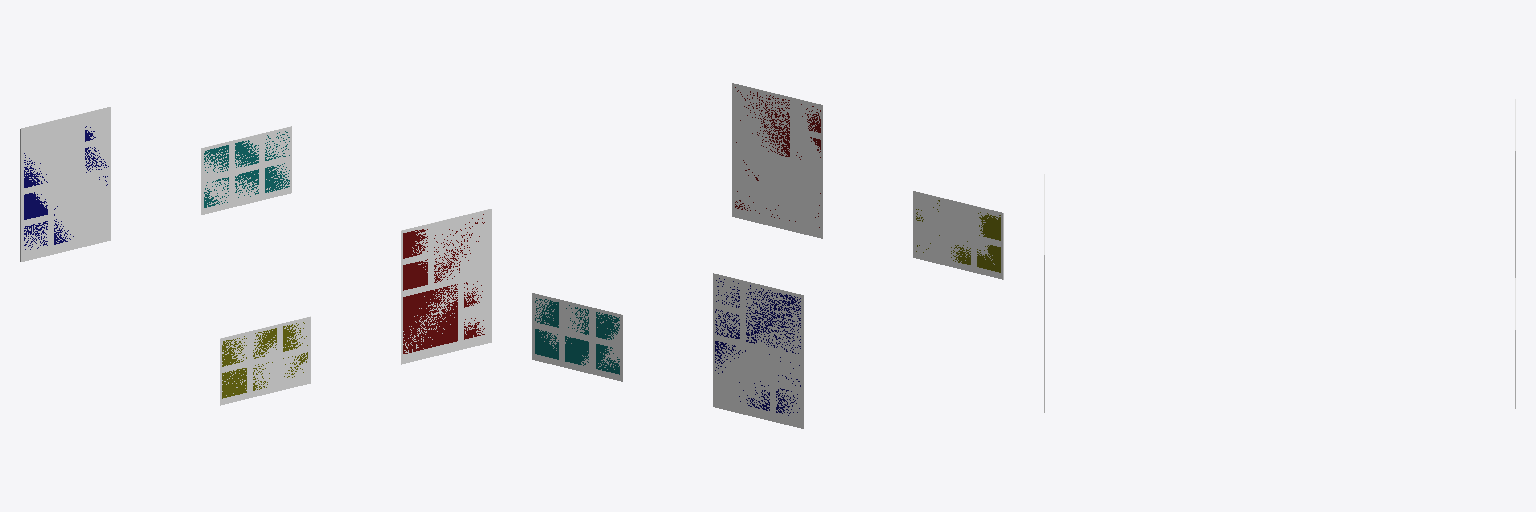
The robot description file, URDF, robot "calibration_all":
<?xml version="1.0" encoding="utf-8"?>
  
<robot name="calibration_all">

<!-- specific placement of individual calibration grids -->
    <link name="calibration_all_base_link">
        <visual>  
        <geometry>
          <box size="1e-3 1e-3 1e-3" />
        </geometry>
        <material name="TransparentWhite">
        <color rgba="1 1 1 0.2"/>
        </material>
    </visual>
    </link>

    <!-- note: A3 printing was not extremelly precise on the margins. 10mm on the left was 8mm. sizes are correct -->
    <!-- note: A4 printing was not extremelly precise on the margins. 10mm on the left was 7mm. sizes are correct -->

    <joint name="all-1a" type="fixed">
        <origin rpy="0 1.57079 1.57079" xyz="0.445 -0.5675 0.61"/>
        <parent link="calibration_all_base_link"/>
        <child link="calibration_1a_base_link"/>
    </joint>

    <joint name="all-1b" type="fixed">
        <origin rpy="0 1.57079 1.57079" xyz="-0.148 -0.5675 0.41"/>
        <parent link="calibration_all_base_link"/>
        <child link="calibration_1b_base_link"/>
    </joint>

    <joint name="all-2b" type="fixed">
        <origin rpy="0 1.57079 -1.57079" xyz="0.148 0.5675 0.41"/>
        <parent link="calibration_all_base_link"/>
        <child link="calibration_2b_base_link"/>
    </joint>

    <joint name="all-2a" type="fixed">
        <origin rpy="0 1.57079 -1.57079" xyz="-0.445 0.5675 0.61"/>
        <parent link="calibration_all_base_link"/>
        <child link="calibration_2a_base_link"/>
    </joint>

<!-- 1a -->
  <!-- upper left corner of grid  -->
  <link name="calibration_1a_base_link">
    <visual>  
     <origin xyz ="0.21 0.1485 0" rpy ="0 0 0"/>
     <geometry>
       <box size="0.42 0.297 1e-3" />
     </geometry>
     <material name="TransparentWhite">
       <color rgba="1 1 1 0.2"/>
     </material>
   </visual>
  </link>

  <!-- aruco 901 -->
  <link name="aruco_901">
    <visual>  
     <geometry>
       <box size="0.18 0.18 0.001" />
     </geometry>
     <material name="DarkRed">
       <color rgba="0.5 0.1 0.1 0.8"/>
     </material>
   </visual>
  </link>

  <!-- aruco 902   -->
  <link name="aruco_902">
    <visual>  
     <geometry>
       <box size="0.08 0.08 0.001" />
     </geometry>
     <material name="DarkRed">
       <color rgba="0.5 0.1 0.1 0.8"/>
     </material>
   </visual>
  </link>

  <!-- aruco 903   -->
  <link name="aruco_903">
    <visual>  
     <geometry>
       <box size="0.08 0.08 0.001" />
     </geometry>
     <material name="DarkRed">
       <color rgba="0.5 0.1 0.1 0.8"/>
     </material>
   </visual>
  </link>

  <!-- aruco 904   -->
  <link name="aruco_904">
    <visual>  
     <geometry>
       <box size="0.08 0.08 0.001" />
     </geometry>
     <material name="DarkRed">
       <color rgba="0.5 0.1 0.1 0.8"/>
     </material>
   </visual>
  </link>

  <!-- aruco 905   -->
  <link name="aruco_905">
    <visual>  
     <geometry>
       <box size="0.08 0.08 0.001" />
     </geometry>
     <material name="DarkRed">
       <color rgba="0.5 0.1 0.1 0.8"/>
     </material>
   </visual>
  </link>

  <!-- aruco 906   -->
  <link name="aruco_906">
    <visual>  
     <geometry>
       <box size="0.18 0.18 0.001" />
     </geometry>
     <material name="DarkRed">
       <color rgba="0.5 0.1 0.1 0.8"/>
     </material>
   </visual>
  </link>

  <!-- position aruco markers -->
  <joint name="base_link-aruco_901" type="fixed">
    <origin rpy="0 0 0" xyz="0.1 0.1 0"/>
    <parent link="calibration_1a_base_link"/>
    <child link="aruco_901"/>
  </joint>

  <joint name="base_link-aruco_902" type="fixed">
    <origin rpy="0 0 0" xyz="0.05 0.25 0"/>
    <parent link="calibration_1a_base_link"/>
    <child link="aruco_902"/>
  </joint>

  <joint name="base_link-aruco_903" type="fixed">
    <origin rpy="0 0 0" xyz="0.15 0.25 0"/>
    <parent link="calibration_1a_base_link"/>
    <child link="aruco_903"/>
  </joint>

  <joint name="base_link-aruco_904" type="fixed">
    <origin rpy="0 0 0" xyz="0.25 0.05 0"/>
    <parent link="calibration_1a_base_link"/>
    <child link="aruco_904"/>
  </joint>

  <joint name="base_link-aruco_905" type="fixed">
    <origin rpy="0 0 0" xyz="0.35 0.05 0"/>
    <parent link="calibration_1a_base_link"/>
    <child link="aruco_905"/>
  </joint>

  <joint name="base_link-aruco_906" type="fixed">
    <origin rpy="0 0 0" xyz="0.3 0.2 0"/>
    <parent link="calibration_1a_base_link"/>
    <child link="aruco_906"/>
  </joint>
<!-- 1b -->
  <!-- upper left corner of grid  -->
  <link name="calibration_1b_base_link">
    <visual>  
     <origin xyz ="0.105 0.1485 0" rpy ="0 0 0"/>
     <geometry>
       <box size="0.21 0.297 1e-3" />
     </geometry>
     <material name="TransparentWhite">
       <color rgba="1 1 1 0.2"/>
     </material>
   </visual>
  </link>

  <!-- aruco 907 -->
  <link name="aruco_907">
    <visual>  
     <geometry>
       <box size="0.08 0.08 0.001" />
     </geometry>
     <material name="Yellow">
       <color rgba="0.5 0.5 0.1 0.8"/>
     </material>
   </visual>
  </link>

  <!-- aruco 908   -->
  <link name="aruco_908">
    <visual>  
     <geometry>
       <box size="0.08 0.08 0.001" />
     </geometry>
     <material name="Yellow">
       <color rgba="0.5 0.5 0.1 0.8"/>
     </material>
   </visual>
  </link>

  <!-- aruco 909   -->
  <link name="aruco_909">
    <visual>  
     <geometry>
       <box size="0.08 0.08 0.001" />
     </geometry>
     <material name="Yellow">
       <color rgba="0.5 0.5 0.1 0.8"/>
     </material>
   </visual>
  </link>

  <!-- aruco 910   -->
  <link name="aruco_910">
    <visual>  
     <geometry>
       <box size="0.08 0.08 0.001" />
     </geometry>
     <material name="Yellow">
       <color rgba="0.5 0.5 0.1 0.8"/>
     </material>
   </visual>
  </link>

  <!-- aruco 911   -->
  <link name="aruco_911">
    <visual>  
     <geometry>
       <box size="0.08 0.08 0.001" />
     </geometry>
     <material name="Yellow">
       <color rgba="0.5 0.5 0.1 0.8"/>
     </material>
   </visual>
  </link>

  <!-- aruco 912   -->
  <link name="aruco_912">
    <visual>  
     <geometry>
       <box size="0.08 0.08 0.001" />
     </geometry>
     <material name="Yellow">
       <color rgba="0.5 0.5 0.1 0.8"/>
     </material>
   </visual>
  </link>

  <!-- position aruco markers -->
  <joint name="base_link-aruco_907" type="fixed">
    <origin rpy="0 0 0" xyz="0.05 0.05 0"/>
    <parent link="calibration_1b_base_link"/>
    <child link="aruco_907"/>
  </joint>

  <joint name="base_link-aruco_908" type="fixed">
    <origin rpy="0 0 0" xyz="0.15 0.05 0"/>
    <parent link="calibration_1b_base_link"/>
    <child link="aruco_908"/>
  </joint>

  <joint name="base_link-aruco_909" type="fixed">
    <origin rpy="0 0 0" xyz="0.05 0.15 0"/>
    <parent link="calibration_1b_base_link"/>
    <child link="aruco_909"/>
  </joint>

  <joint name="base_link-aruco_910" type="fixed">
    <origin rpy="0 0 0" xyz="0.15 0.15 0"/>
    <parent link="calibration_1b_base_link"/>
    <child link="aruco_910"/>
  </joint>

  <joint name="base_link-aruco_911" type="fixed">
    <origin rpy="0 0 0" xyz="0.05 0.25 0"/>
    <parent link="calibration_1b_base_link"/>
    <child link="aruco_911"/>
  </joint>

  <joint name="base_link-aruco_912" type="fixed">
    <origin rpy="0 0 0" xyz="0.15 0.25 0"/>
    <parent link="calibration_1b_base_link"/>
    <child link="aruco_912"/>
  </joint>
<!-- 2a -->
  <!-- upper left corner of grid  -->
  <link name="calibration_2a_base_link">
    <visual>  
     <origin xyz ="0.21 0.1485 0" rpy ="0 0 0"/>
     <geometry>
       <box size="0.42 0.297 1e-3" />
     </geometry>
     <material name="TransparentWhite">
       <color rgba="1 1 1 0.2"/>
     </material>
   </visual>
  </link>

  <!-- aruco 913 -->
  <link name="aruco_913">
    <visual>  
     <geometry>
       <box size="0.18 0.18 0.001" />
     </geometry>
     <material name="DarkBlue">
       <color rgba="0.1 0.1 0.5 0.8"/>
     </material>
   </visual>
  </link>

  <!-- aruco 914   -->
  <link name="aruco_914">
    <visual>  
     <geometry>
       <box size="0.08 0.08 0.001" />
     </geometry>
     <material name="DarkBlue">
       <color rgba="0.1 0.1 0.5 0.8"/>
     </material>
   </visual>
  </link>

  <!-- aruco 915   -->
  <link name="aruco_915">
    <visual>  
     <geometry>
       <box size="0.08 0.08 0.001" />
     </geometry>
     <material name="DarkBlue">
       <color rgba="0.1 0.1 0.5 0.8"/>
     </material>
   </visual>
  </link>

  <!-- aruco 916   -->
  <link name="aruco_916">
    <visual>  
     <geometry>
       <box size="0.08 0.08 0.001" />
     </geometry>
     <material name="DarkBlue">
       <color rgba="0.1 0.1 0.5 0.8"/>
     </material>
   </visual>
  </link>

  <!-- aruco 917   -->
  <link name="aruco_917">
    <visual>  
     <geometry>
       <box size="0.08 0.08 0.001" />
     </geometry>
     <material name="DarkBlue">
       <color rgba="0.1 0.1 0.5 0.8"/>
     </material>
   </visual>
  </link>

  <!-- aruco 918   -->
  <link name="aruco_918">
    <visual>  
     <geometry>
       <box size="0.18 0.18 0.001" />
     </geometry>
     <material name="DarkBlue">
       <color rgba="0.1 0.1 0.5 0.8"/>
     </material>
   </visual>
  </link>

  <!-- position aruco markers -->
  <joint name="base_link-aruco_913" type="fixed">
    <origin rpy="0 0 0" xyz="0.1 0.1 0"/>
    <parent link="calibration_2a_base_link"/>
    <child link="aruco_913"/>
  </joint>

  <joint name="base_link-aruco_914" type="fixed">
    <origin rpy="0 0 0" xyz="0.05 0.25 0"/>
    <parent link="calibration_2a_base_link"/>
    <child link="aruco_914"/>
  </joint>

  <joint name="base_link-aruco_915" type="fixed">
    <origin rpy="0 0 0" xyz="0.15 0.25 0"/>
    <parent link="calibration_2a_base_link"/>
    <child link="aruco_915"/>
  </joint>

  <joint name="base_link-aruco_916" type="fixed">
    <origin rpy="0 0 0" xyz="0.25 0.05 0"/>
    <parent link="calibration_2a_base_link"/>
    <child link="aruco_916"/>
  </joint>

  <joint name="base_link-aruco_917" type="fixed">
    <origin rpy="0 0 0" xyz="0.35 0.05 0"/>
    <parent link="calibration_2a_base_link"/>
    <child link="aruco_917"/>
  </joint>

  <joint name="base_link-aruco_918" type="fixed">
    <origin rpy="0 0 0" xyz="0.3 0.2 0"/>
    <parent link="calibration_2a_base_link"/>
    <child link="aruco_918"/>
  </joint>

<!-- 2b -->
  <!-- upper left corner of grid  -->
  <link name="calibration_2b_base_link">
    <visual>  
     <origin xyz ="0.105 0.1485 0" rpy ="0 0 0"/>
     <geometry>
       <box size="0.21 0.297 1e-3" />
     </geometry>
     <material name="TransparentWhite">
       <color rgba="1 1 1 0.2"/>
     </material>
   </visual>
  </link>

  <!-- aruco 919 -->
  <link name="aruco_919">
    <visual>  
     <geometry>
       <box size="0.08 0.08 0.001" />
     </geometry>
     <material name="Cyan">
       <color rgba="0.1 0.5 0.5 0.8"/>
     </material>
   </visual>
  </link>

  <!-- aruco 920   -->
  <link name="aruco_920">
    <visual>  
     <geometry>
       <box size="0.08 0.08 0.001" />
     </geometry>
     <material name="Cyan">
       <color rgba="0.1 0.5 0.5 0.8"/>
     </material>
   </visual>
  </link>

  <!-- aruco 921   -->
  <link name="aruco_921">
    <visual>  
     <geometry>
       <box size="0.08 0.08 0.001" />
     </geometry>
     <material name="Cyan">
       <color rgba="0.1 0.5 0.5 0.8"/>
     </material>
   </visual>
  </link>

  <!-- aruco 922   -->
  <link name="aruco_922">
    <visual>  
     <geometry>
       <box size="0.08 0.08 0.001" />
     </geometry>
     <material name="Cyan">
       <color rgba="0.1 0.5 0.5 0.8"/>
     </material>
   </visual>
  </link>

  <!-- aruco 923   -->
  <link name="aruco_923">
    <visual>  
     <geometry>
       <box size="0.08 0.08 0.001" />
     </geometry>
     <material name="Cyan">
       <color rgba="0.1 0.5 0.5 0.8"/>
     </material>
   </visual>
  </link>

  <!-- aruco 924   -->
  <link name="aruco_924">
    <visual>  
     <geometry>
       <box size="0.08 0.08 0.001" />
     </geometry>
     <material name="Cyan">
       <color rgba="0.1 0.5 0.5 0.8"/>
     </material>
   </visual>
  </link>

  <!-- position aruco markers -->
  <joint name="base_link-aruco_919" type="fixed">
    <origin rpy="0 0 0" xyz="0.05 0.05 0"/>
    <parent link="calibration_2b_base_link"/>
    <child link="aruco_919"/>
  </joint>

  <joint name="base_link-aruco_920" type="fixed">
    <origin rpy="0 0 0" xyz="0.15 0.05 0"/>
    <parent link="calibration_2b_base_link"/>
    <child link="aruco_920"/>
  </joint>

  <joint name="base_link-aruco_921" type="fixed">
    <origin rpy="0 0 0" xyz="0.05 0.15 0"/>
    <parent link="calibration_2b_base_link"/>
    <child link="aruco_921"/>
  </joint>

  <joint name="base_link-aruco_922" type="fixed">
    <origin rpy="0 0 0" xyz="0.15 0.15 0"/>
    <parent link="calibration_2b_base_link"/>
    <child link="aruco_922"/>
  </joint>

  <joint name="base_link-aruco_923" type="fixed">
    <origin rpy="0 0 0" xyz="0.05 0.25 0"/>
    <parent link="calibration_2b_base_link"/>
    <child link="aruco_923"/>
  </joint>

  <joint name="base_link-aruco_924" type="fixed">
    <origin rpy="0 0 0" xyz="0.15 0.25 0"/>
    <parent link="calibration_2b_base_link"/>
    <child link="aruco_924"/>
  </joint>

</robot>

--- What the picture shows (computed from the rendered views, not written in the file) ---
3 views of the same robot in one strip: view 1: azimuth 30°, elevation 25°; view 2: azimuth 150°, elevation 25°; view 3: azimuth 270°, elevation 25° (orthographic).
Model calibration_all with 29 links and 28 joints (28 fixed), rooted at calibration_all_base_link, posed all joints at 0.
Visible links, largest first — view 1: calibration_2a_base_link, calibration_1a_base_link, calibration_1b_base_link, calibration_2b_base_link, aruco_906, aruco_903, aruco_912; view 2: calibration_1a_base_link, calibration_2a_base_link, calibration_1b_base_link, calibration_2b_base_link, aruco_913, aruco_901, aruco_922; view 3: none.
Boxes of the visible links, x1,y1,x2,y2 form: calibration_2a_base_link: (20,107,110,261); calibration_1a_base_link: (401,209,491,364); calibration_1b_base_link: (220,316,310,405); calibration_2b_base_link: (201,126,291,214); aruco_906: (403,284,457,353); aruco_903: (403,259,427,290); aruco_912: (222,368,246,398); calibration_1a_base_link: (732,83,822,238); calibration_2a_base_link: (713,273,803,428); calibration_1b_base_link: (913,191,1003,279); calibration_2b_base_link: (532,293,622,381); aruco_913: (746,285,800,353); aruco_901: (735,87,789,156); aruco_922: (565,336,588,365).
Size in the robot's own frame: 0.89 by 1.14 by 0.6105 metres.
Geometry: primitives only (box / cylinder / sphere), no mesh files.
